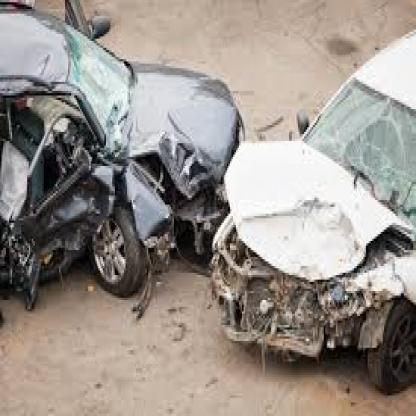accident: (3, 7, 416, 401)
